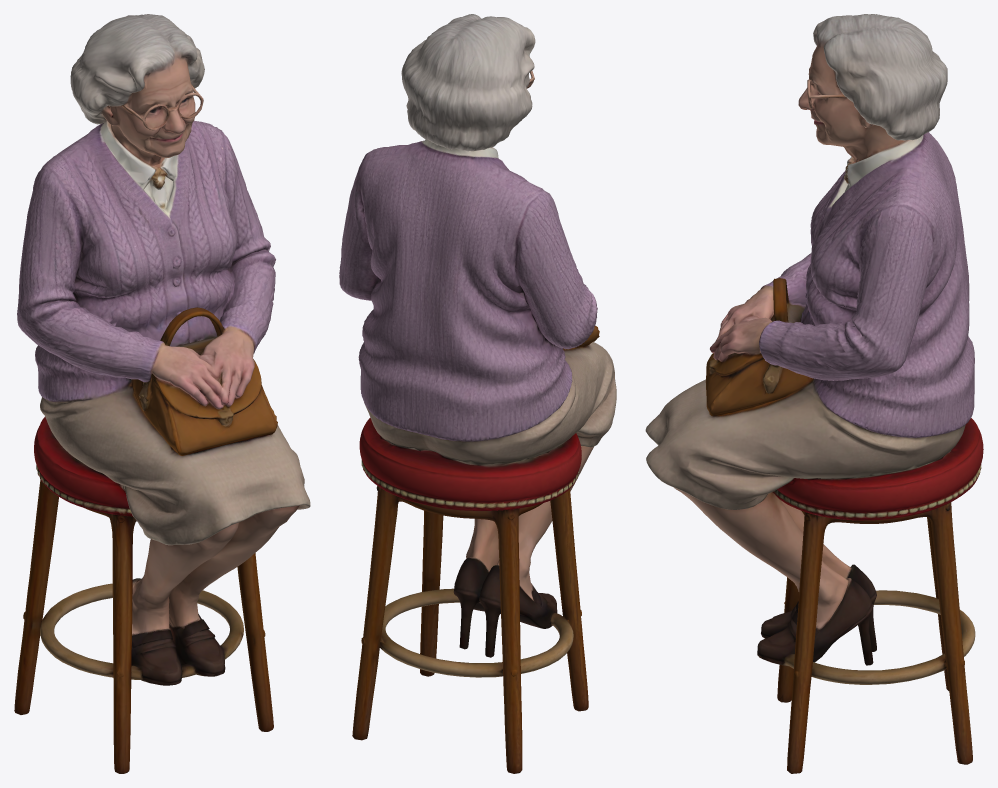
The model's file is connie.glb.
3 views of the same model, side by side, from view 1: azimuth 30°, elevation 25°; view 2: azimuth 150°, elevation 25°; view 3: azimuth 270°, elevation 25° (orthographic).
Parts seen in each view (by area): view 1: tripo_node_1cedb777-9cf9-4975-bfb5-b33efd4cc008; view 2: tripo_node_1cedb777-9cf9-4975-bfb5-b33efd4cc008; view 3: tripo_node_1cedb777-9cf9-4975-bfb5-b33efd4cc008.
Boxes of the visible parts, <box> form: tripo_node_1cedb777-9cf9-4975-bfb5-b33efd4cc008: <box>14,14,310,773</box>; tripo_node_1cedb777-9cf9-4975-bfb5-b33efd4cc008: <box>339,14,616,773</box>; tripo_node_1cedb777-9cf9-4975-bfb5-b33efd4cc008: <box>645,14,983,773</box>.
Size of the model in its own units: 0.3588 by 0.9786 by 0.4208.
1 material, 1 textured.
